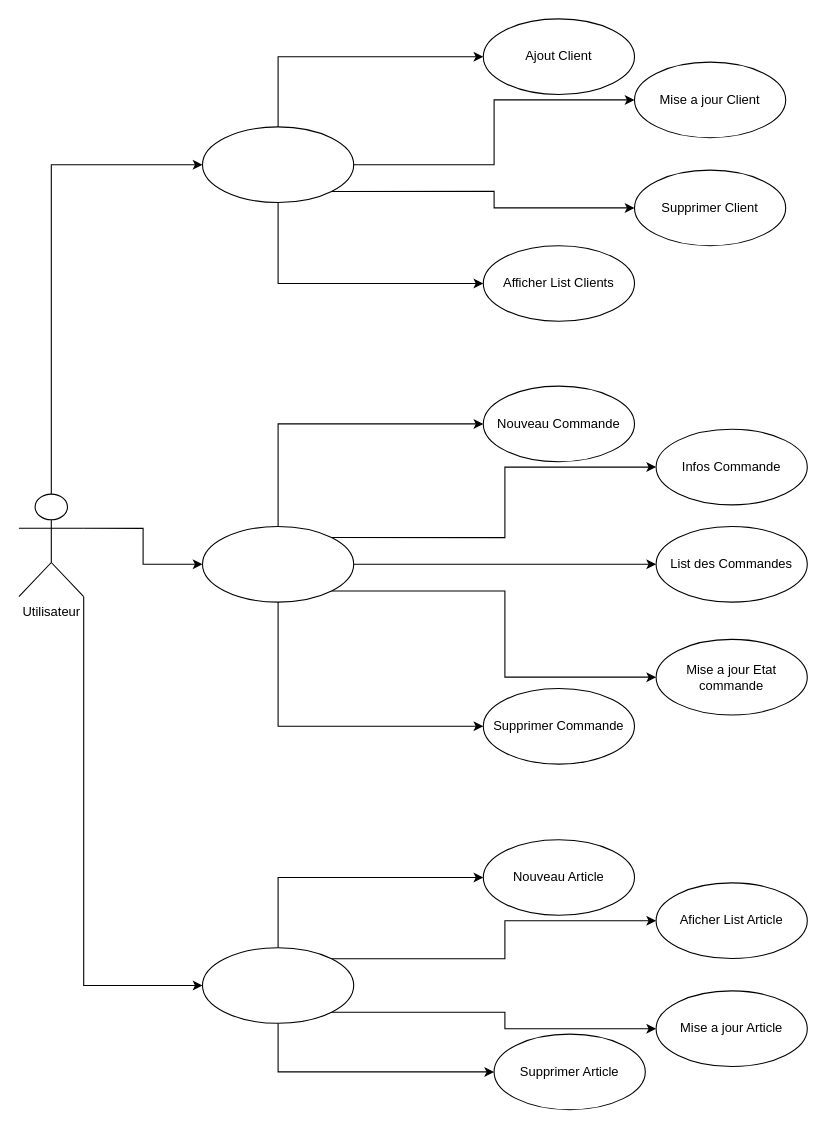
Some shapes in this 826 by 1129 pixel diagram are drawn without their labels. The centre of each missing label's shape, as x and y in pixels:
Gestion des Articles: (277,985)
Gestion des Clients: (277,164)
Gestion des Commandes: (277,563)
